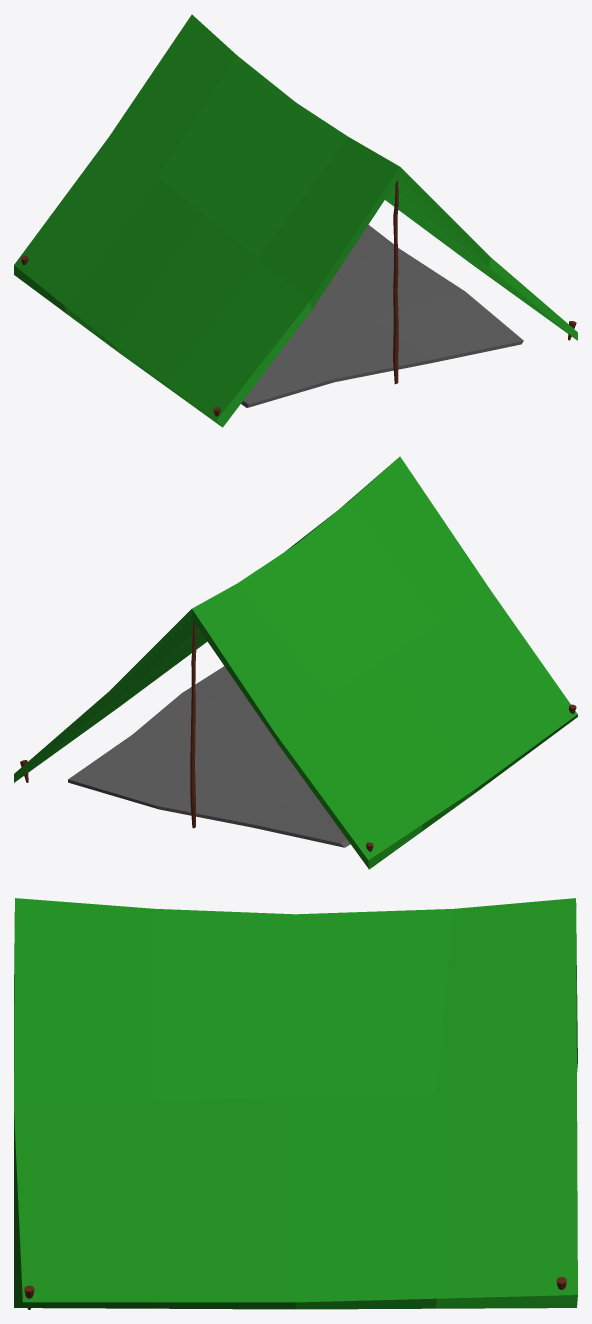
File: tent.FBX
3 renders of one model, top to bottom at view 1: azimuth 30°, elevation 25°; view 2: azimuth 150°, elevation 25°; view 3: azimuth 270°, elevation 25°, orthographic. The views are drawn at different scales.
Parts seen in each view (by area): view 1: Tent_01_mesh; view 2: Tent_01_mesh; view 3: Tent_01_mesh.
Part boxes in pixels (box(x1,y1,x2,y2)): Tent_01_mesh: box(14, 14, 577, 427); Tent_01_mesh: box(14, 456, 577, 869); Tent_01_mesh: box(14, 898, 577, 1309).
Size of the model in its own units: 376 by 220 by 376.
